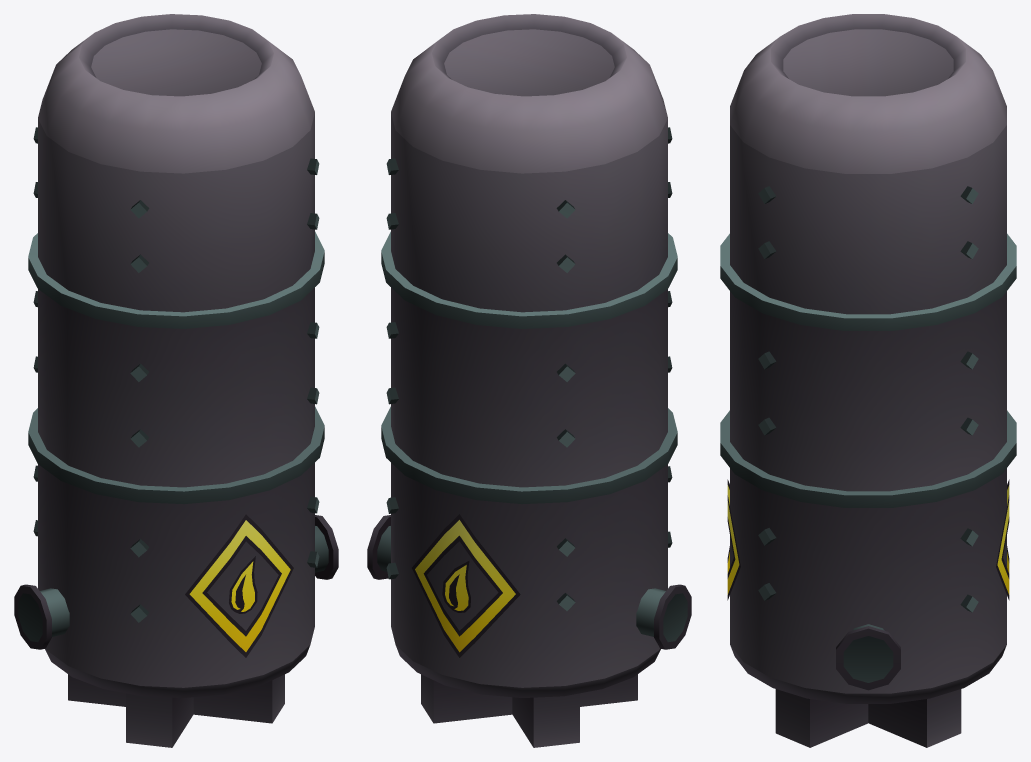
The model's file is Gas_Tank_2A.fbx.
The picture shows the model from 3 angles, left to right: view 1: azimuth 30°, elevation 25°; view 2: azimuth 150°, elevation 25°; view 3: azimuth 270°, elevation 25°; orthographic projection.
Visible parts, largest first — view 1: Gas_Tank_2A; view 2: Gas_Tank_2A; view 3: Gas_Tank_2A.
Part boxes in pixels (box(x1,y1,x2,y2)): Gas_Tank_2A: box(14, 14, 338, 747); Gas_Tank_2A: box(367, 14, 691, 747); Gas_Tank_2A: box(720, 14, 1016, 747).
Size of the model in its own units: 280 by 593 by 244.
